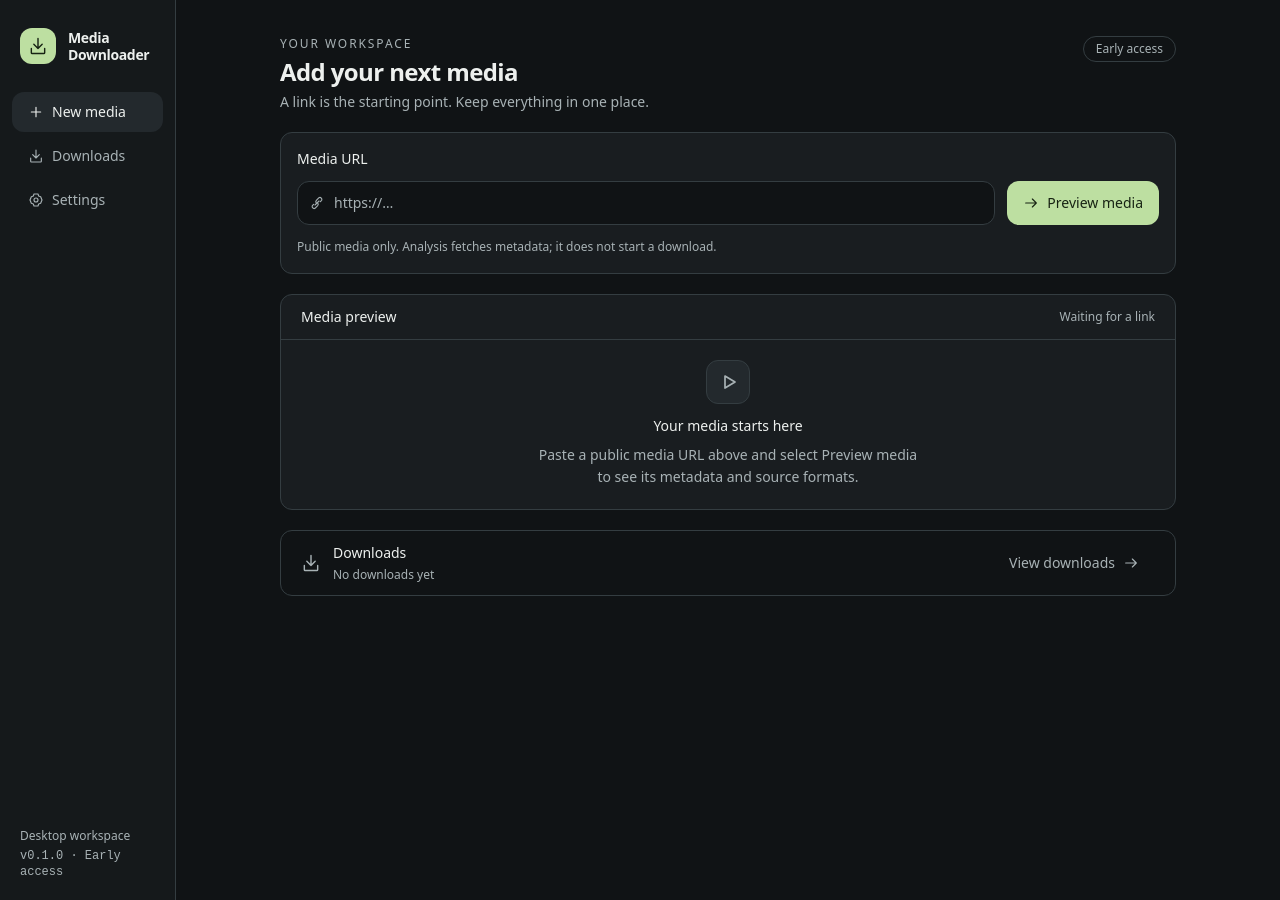
Test: desktop workspace › checks dependencies only when settings opens and announces IPC errors
Click the button "Settings" at (88,200), box [12,180,163,220]
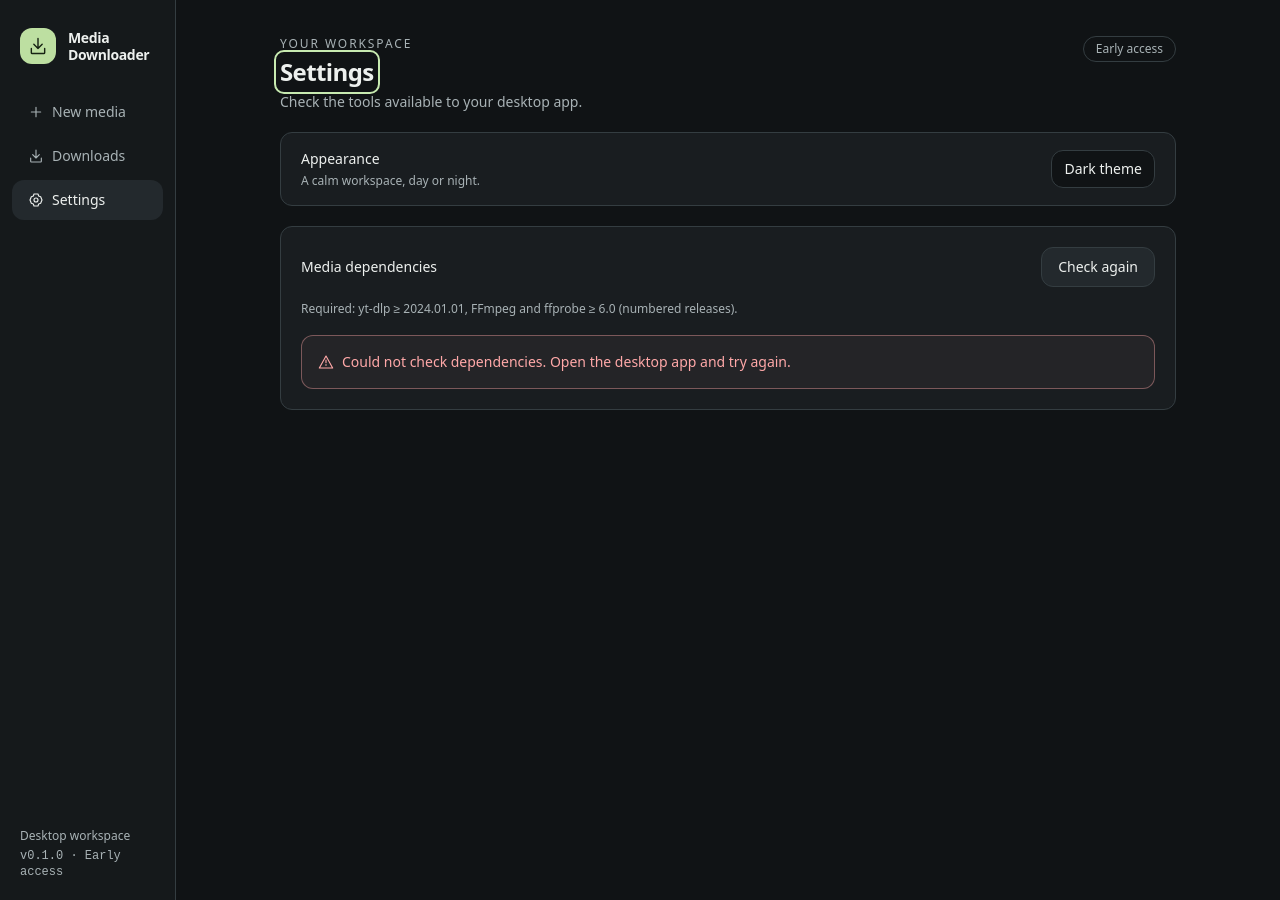
Expected: the message "Could not check dependencies. Open the desktop app and try again." is shown, [301,334,1155,388]
Expected: the text "Dark theme" is shown, [1051,150,1155,188]
